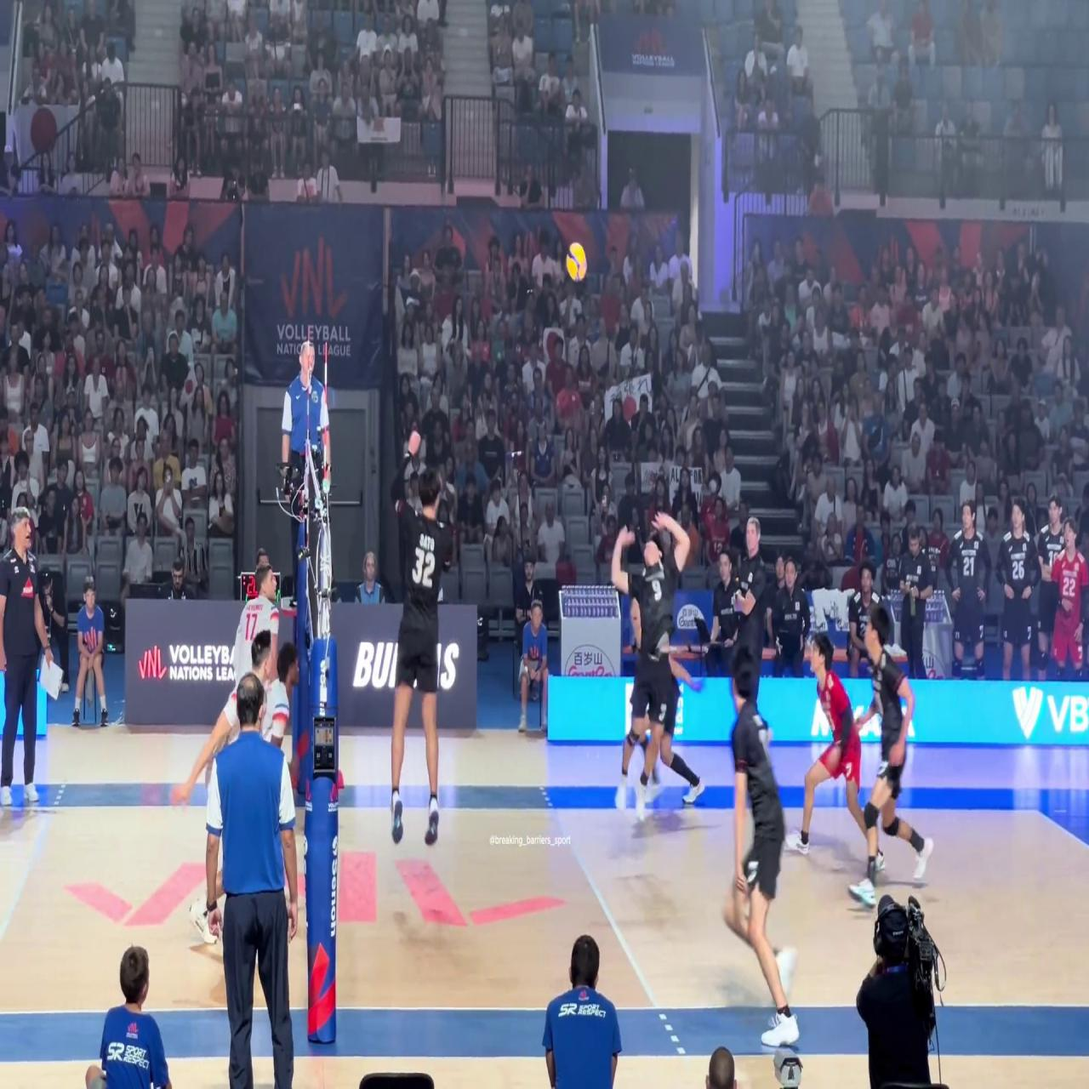ball: (567, 242, 588, 282)
